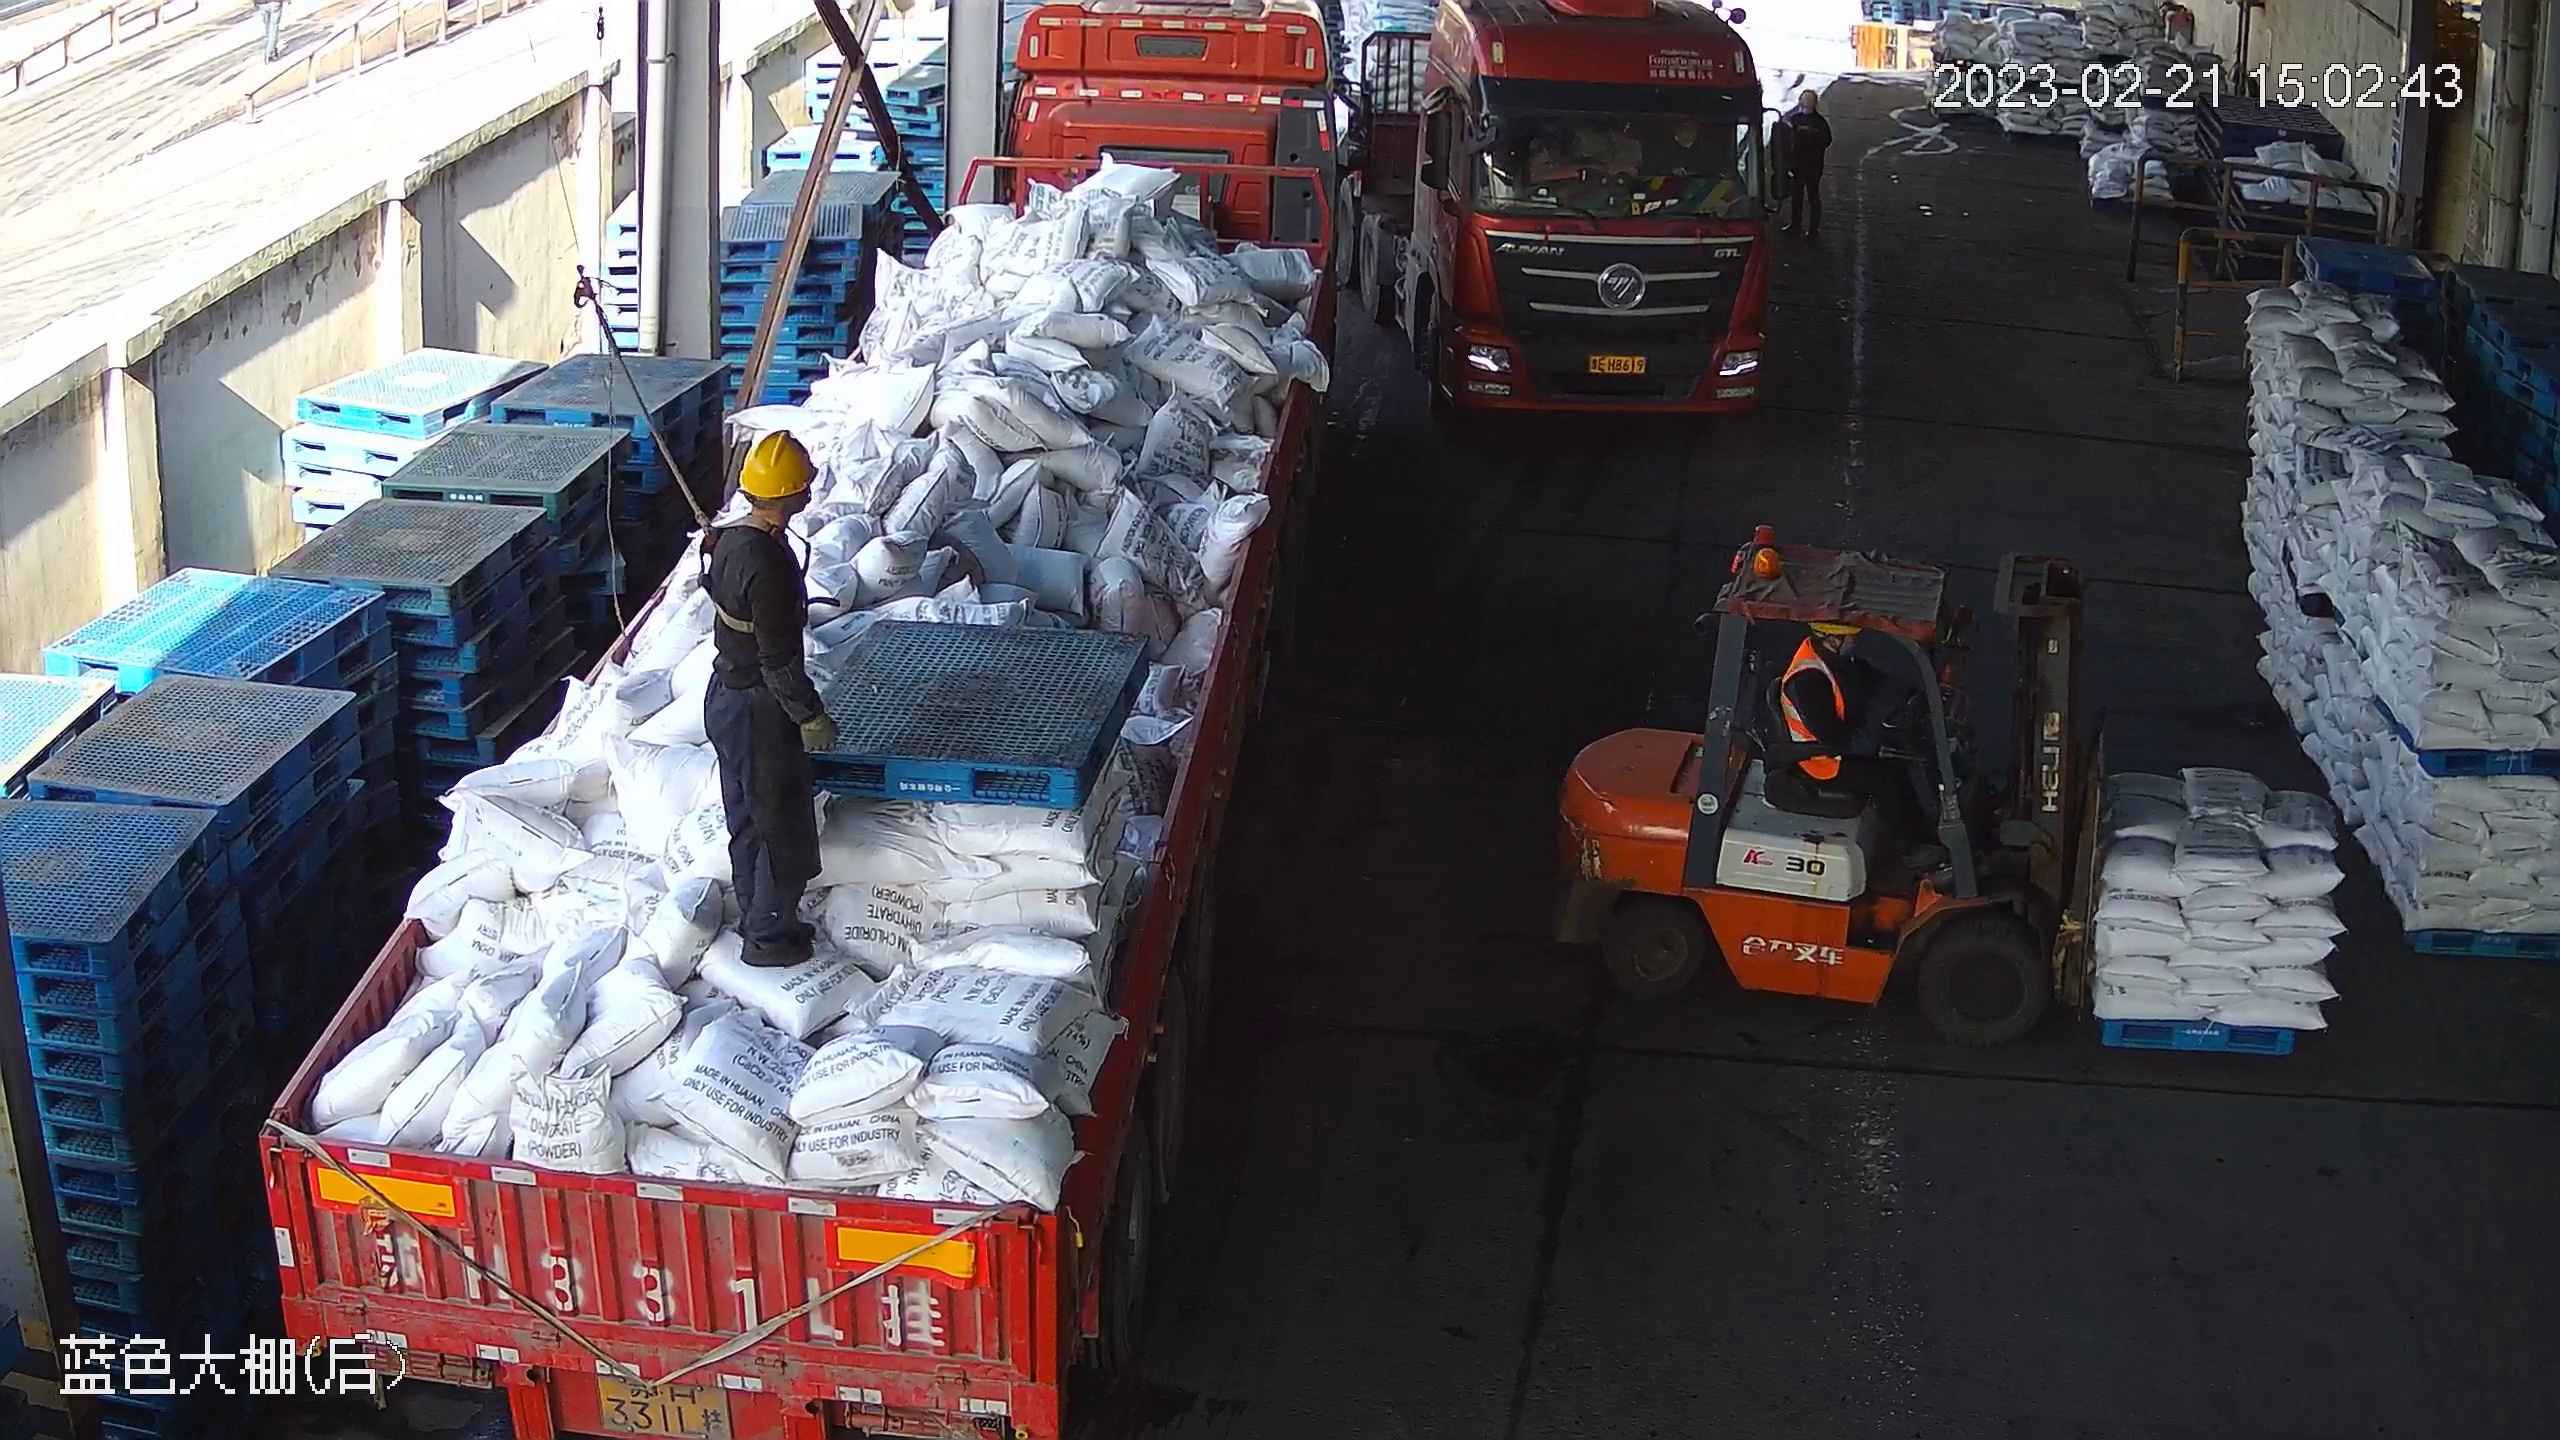belt: (697, 516, 790, 634)
head: (713, 436, 821, 583), (1792, 93, 1827, 134)
helmet: (739, 434, 813, 493), (1799, 93, 1816, 116)
people: (690, 432, 853, 976), (1758, 616, 1941, 872), (1786, 90, 1835, 237)
truck: (248, 2, 1337, 1437), (1388, 6, 1806, 444)
